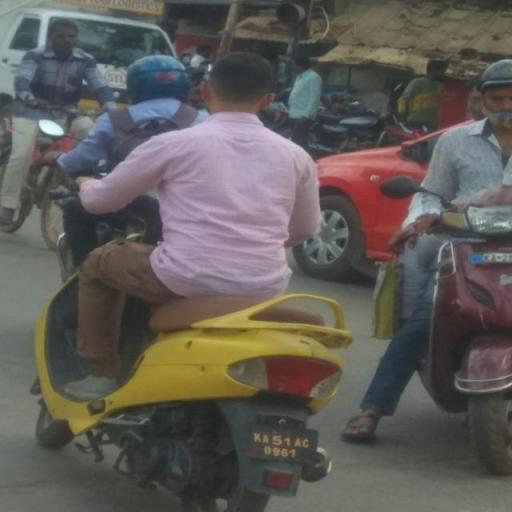bike: (22, 45, 371, 512)
numberplate: (244, 425, 318, 462)
withouthelmet: (207, 54, 273, 112)
